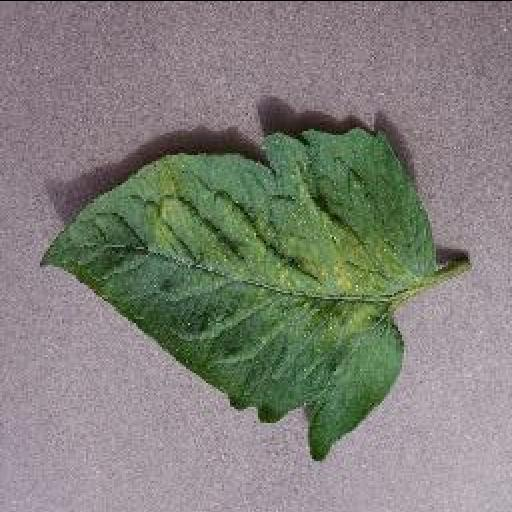disease_tomato: (39, 122, 433, 462)
